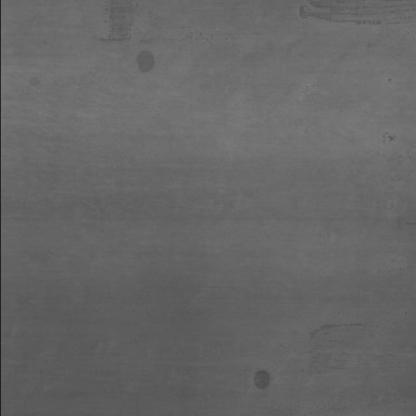oil_spot: (132, 49, 162, 75), (246, 367, 274, 392)
water_spot: (280, 0, 408, 37), (292, 318, 366, 372), (94, 0, 140, 50)
